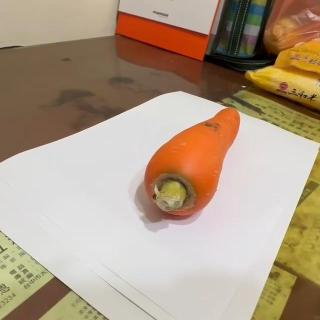carrot: (143, 106, 241, 218)
